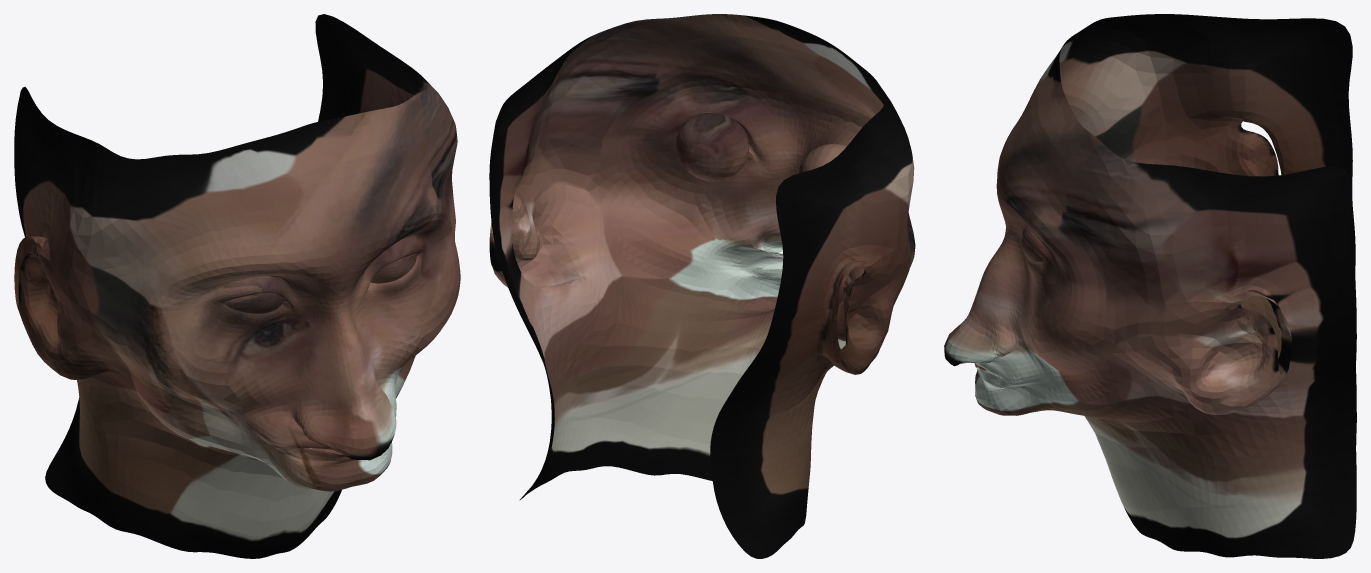
File: baseline.glb
The picture shows the model from 3 angles, left to right: view 1: azimuth 30°, elevation 25°; view 2: azimuth 150°, elevation 25°; view 3: azimuth 270°, elevation 25°; orthographic projection. The views are drawn at different scales.
Visible parts, largest first — view 1: geometry_0; view 2: geometry_0; view 3: geometry_0.
Part boxes in pixels (box(x1,y1,x2,y2)): geometry_0: box(14, 14, 460, 558); geometry_0: box(489, 14, 915, 558); geometry_0: box(944, 14, 1356, 558).
Bounding box in the file's own units: 0.1763 × 0.2031 × 0.1659.
Materials: 1 (1 with a texture image).
